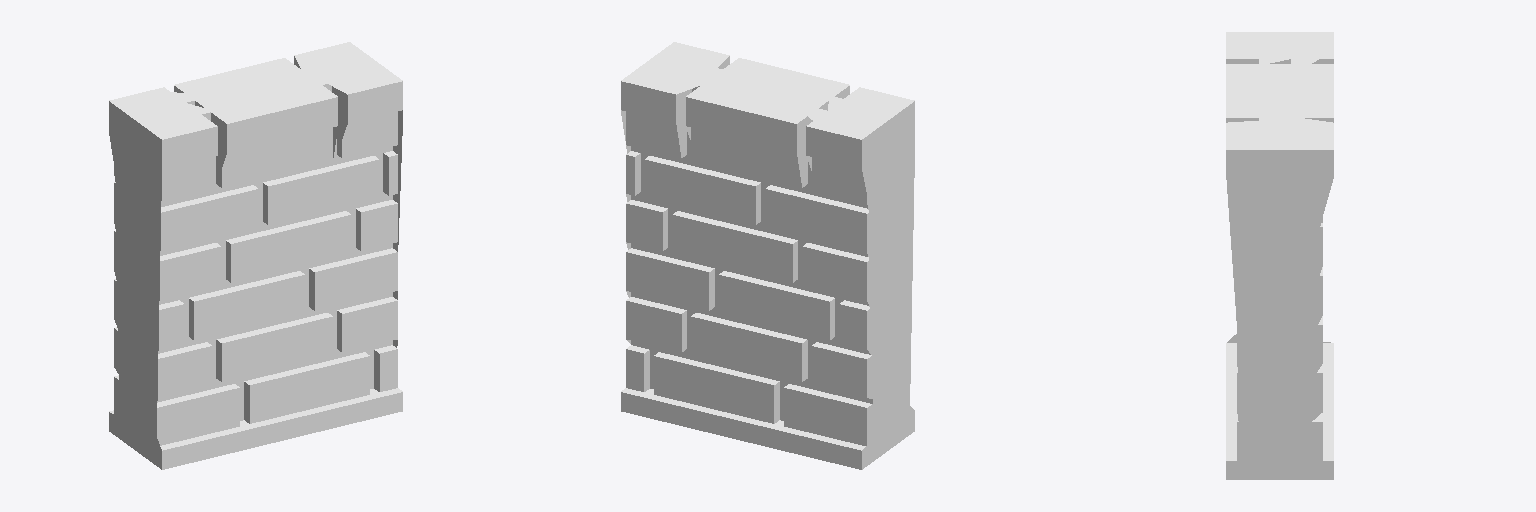
File: Wall.obj
3 renders of one model, left to right at view 1: azimuth 30°, elevation 25°; view 2: azimuth 150°, elevation 25°; view 3: azimuth 270°, elevation 25°, orthographic.
Parts seen in each view (by area): view 1: WallPlain; view 2: WallPlain; view 3: WallPlain.
Boxes of the visible parts, x1,y1,x2,y2 form: WallPlain: [109, 42, 402, 469]; WallPlain: [621, 42, 914, 469]; WallPlain: [1226, 32, 1333, 479].
Bounding box in the file's own units: 2.6 × 3.4 × 1.